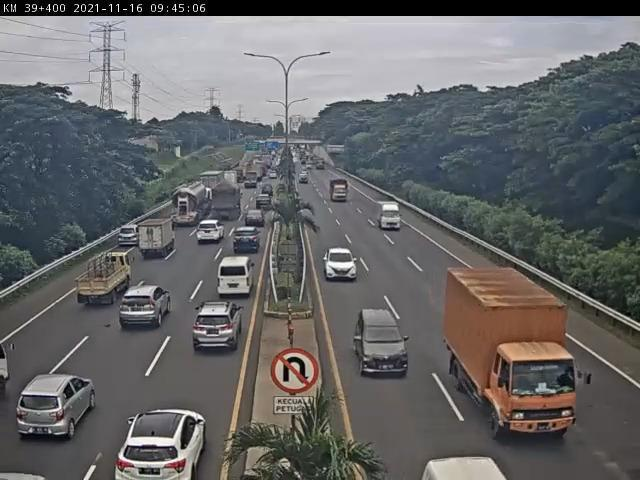car: (115, 412, 209, 480), (18, 375, 101, 440), (353, 307, 410, 376), (193, 303, 243, 353), (119, 286, 173, 329), (216, 258, 254, 298), (324, 246, 358, 281), (234, 230, 261, 258), (195, 222, 223, 244), (119, 224, 143, 247), (245, 210, 267, 228)
truck: (444, 270, 578, 441), (77, 253, 131, 303), (170, 183, 213, 228), (140, 220, 175, 259), (209, 182, 242, 222), (377, 204, 402, 235)
